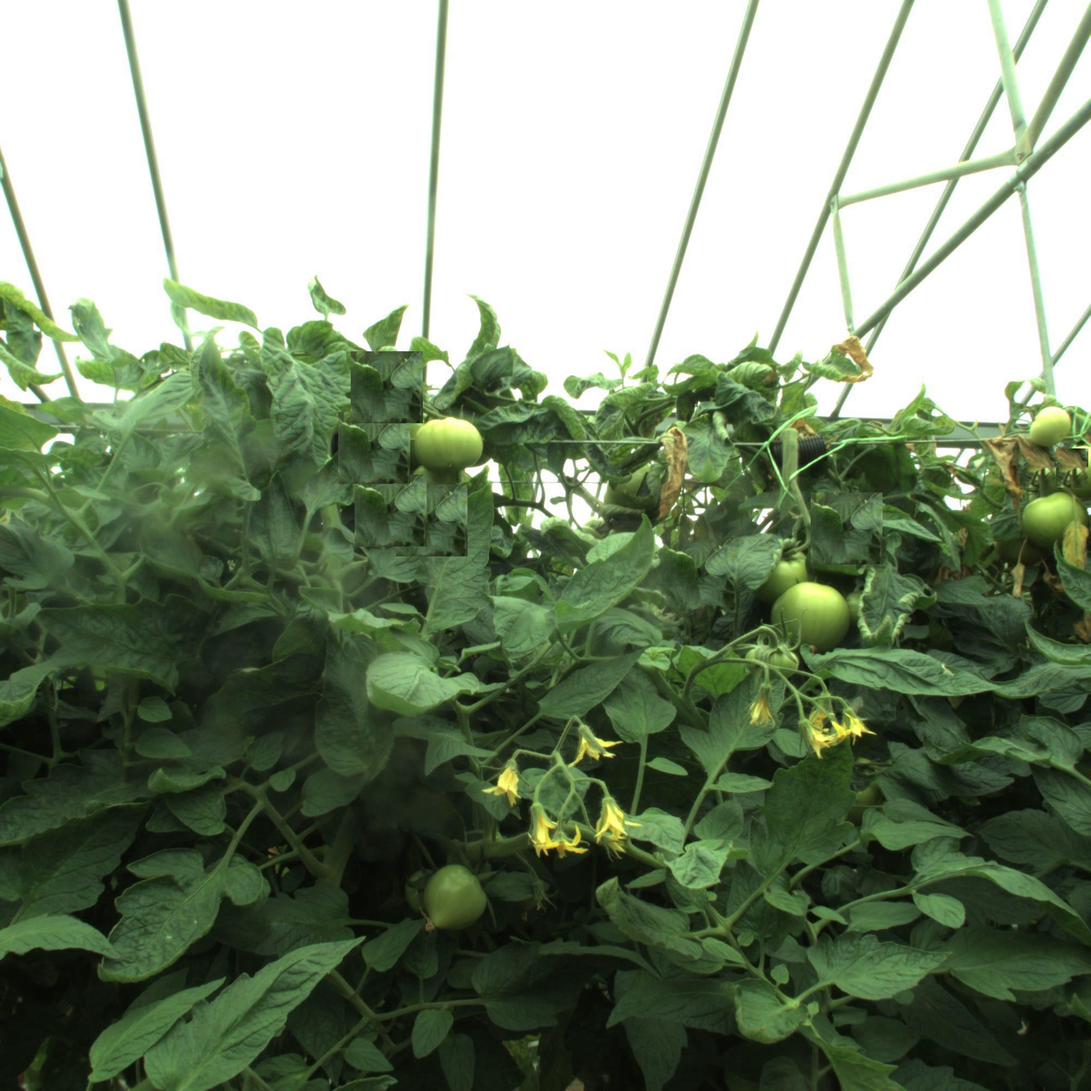unripe: (775, 580, 849, 655), (415, 412, 481, 478), (423, 864, 488, 929), (1024, 494, 1081, 550), (1026, 403, 1074, 451)
